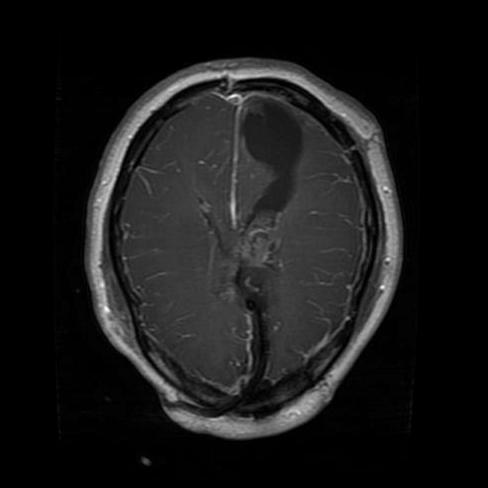Tumour-Glioma: (235, 99, 307, 201)
